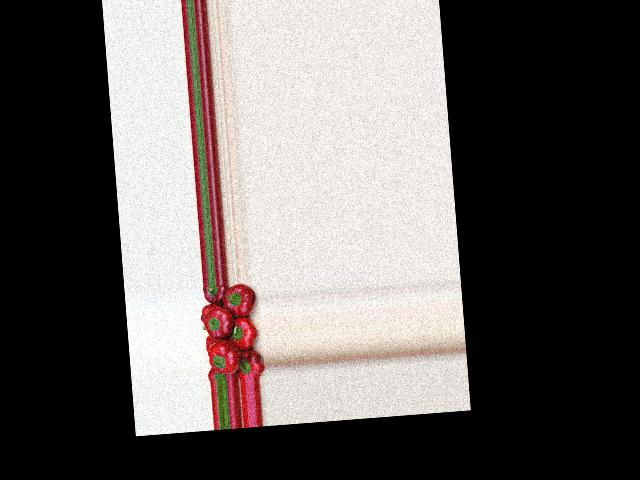bell_pepper: (203, 335, 218, 349)
